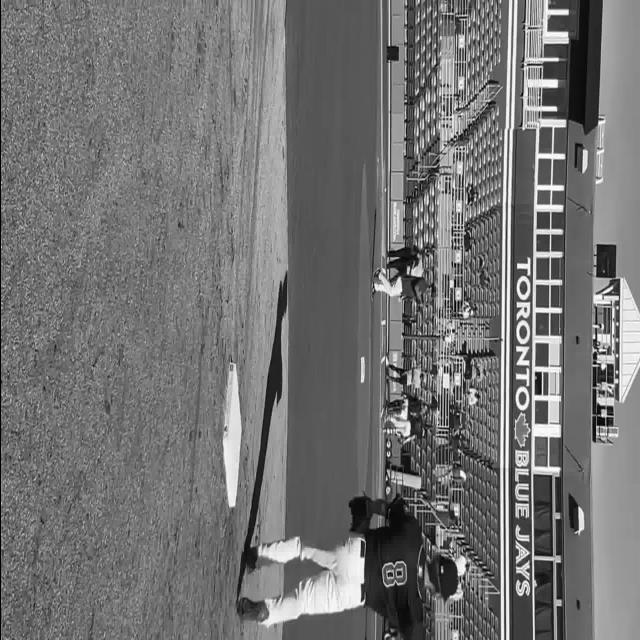base: (223, 354, 241, 510)
baseball_glove: (348, 492, 372, 532)
shoe: (238, 596, 268, 624), (244, 545, 257, 573), (370, 281, 375, 302), (372, 267, 380, 279), (384, 355, 388, 367), (384, 375, 388, 383)
